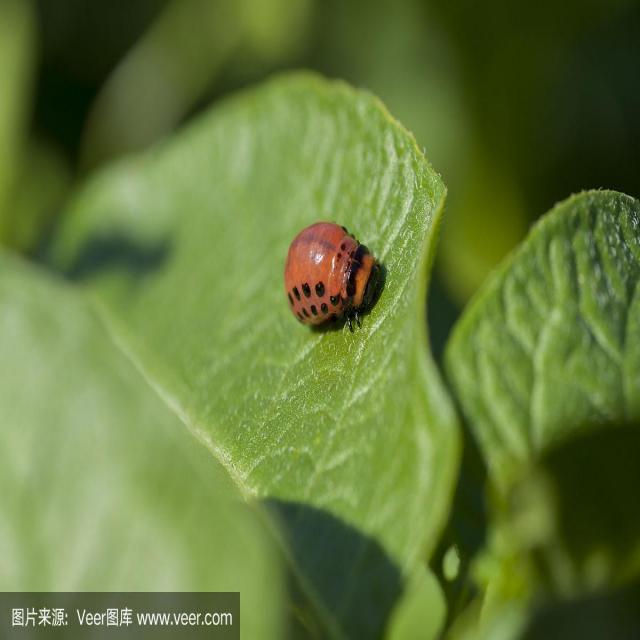ShuCaiHuaBanChong-Larva-: (290, 207, 396, 363)
